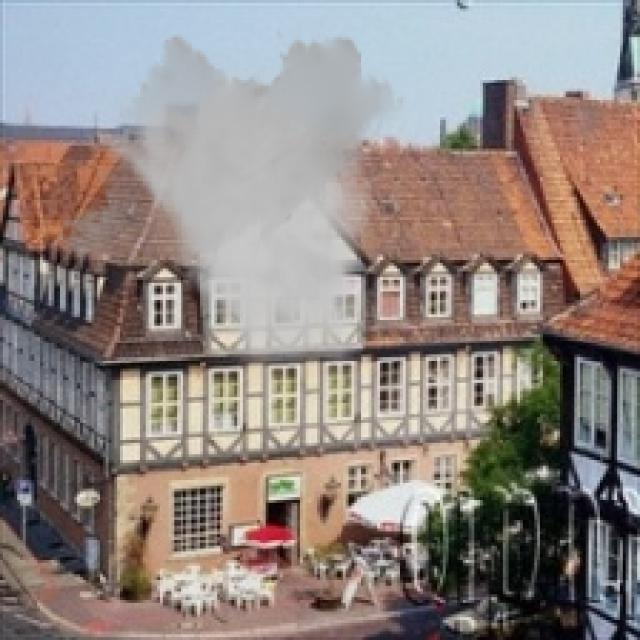smoke: (54, 26, 406, 386)
